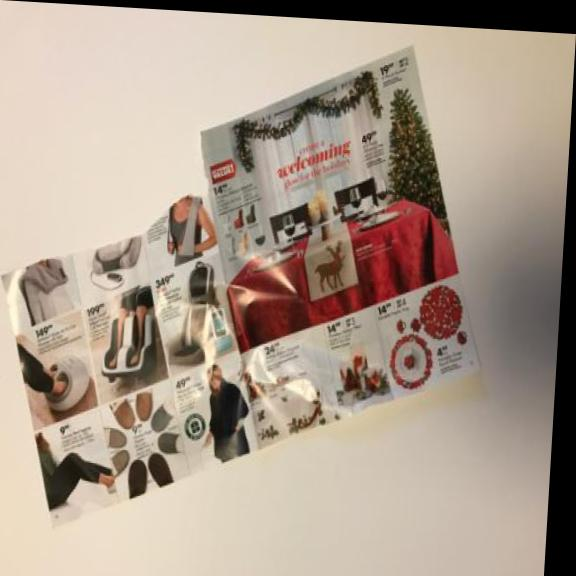Kertas: (177, 23, 508, 466), (0, 185, 272, 546)
